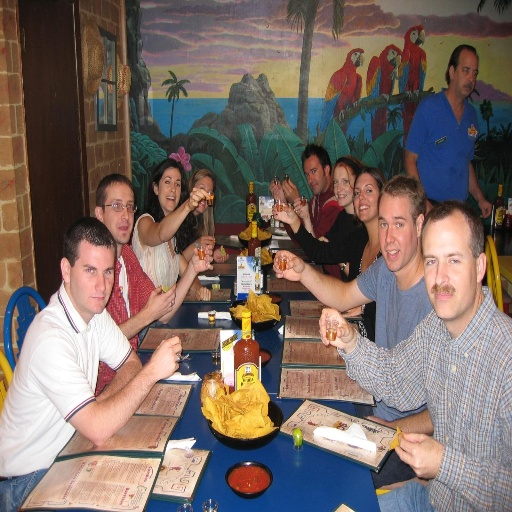hand: (395, 430, 444, 480), (319, 311, 364, 363), (150, 334, 183, 381), (144, 281, 177, 322), (359, 414, 395, 451), (272, 248, 304, 284), (190, 243, 215, 276), (270, 202, 296, 226), (188, 186, 211, 212), (280, 177, 299, 203), (292, 195, 310, 220), (268, 177, 285, 200), (192, 236, 217, 250), (194, 284, 211, 303), (478, 199, 493, 220), (425, 199, 434, 217), (216, 251, 230, 262)
